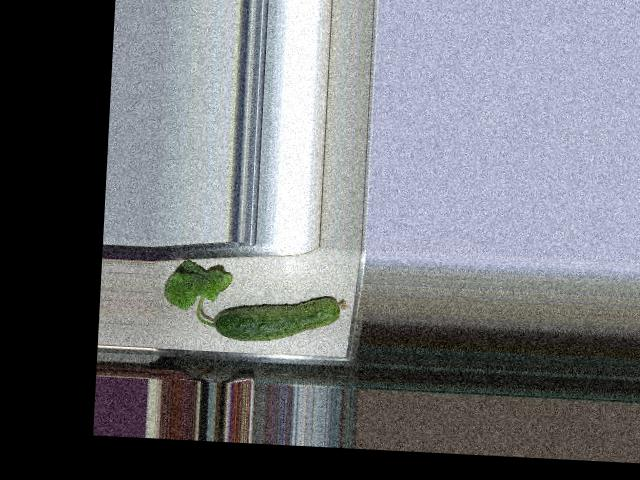cucumber: (211, 291, 347, 345)
